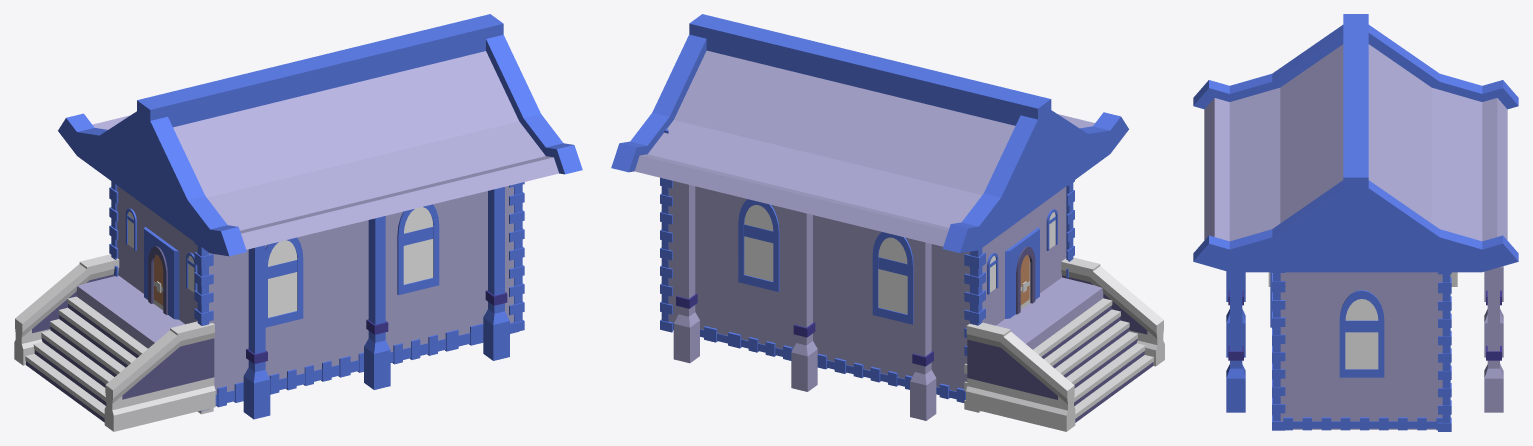
The model's file is musem.fbx.
3 renders of one model, left to right at view 1: azimuth 30°, elevation 25°; view 2: azimuth 150°, elevation 25°; view 3: azimuth 270°, elevation 25°, orthographic. The views are drawn at different scales.
Visible parts, largest first — view 1: mergedBlocks; view 2: mergedBlocks; view 3: mergedBlocks.
Part boxes in pixels (x1,y1,x2,y2): mergedBlocks: (14, 14, 582, 431); mergedBlocks: (611, 14, 1164, 431); mergedBlocks: (1193, 14, 1518, 431).
Bounding box in the file's own units: 82.1 × 51.2 × 56.82.
